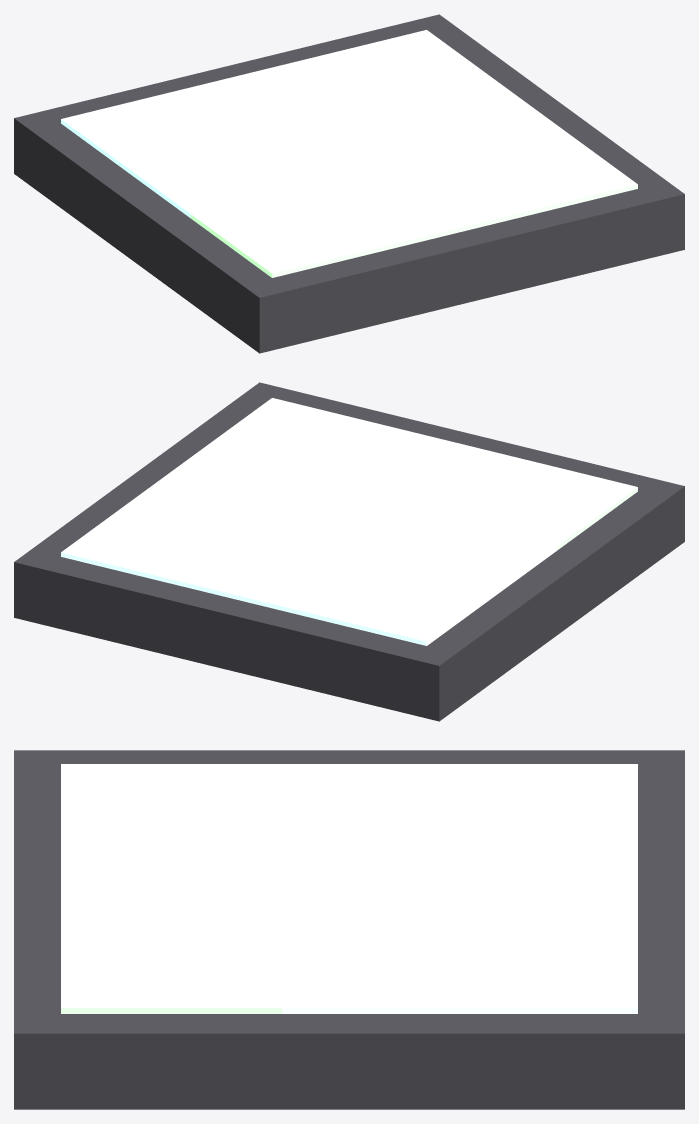
File: screen_held.gltf
3 views of the same model, one above another, from view 1: azimuth 30°, elevation 25°; view 2: azimuth 150°, elevation 25°; view 3: azimuth 270°, elevation 25° (orthographic). The views are drawn at different scales.
Visible parts, largest first — view 1: cameras_screen_held; view 2: cameras_screen_held; view 3: cameras_screen_held.
Part boxes in pixels (<box>): cameras_screen_held: <box>14,14,684,353</box>; cameras_screen_held: <box>14,382,684,721</box>; cameras_screen_held: <box>14,750,684,1109</box>.
Size of the model in its own units: 0.16 by 0.0216 by 0.16.
